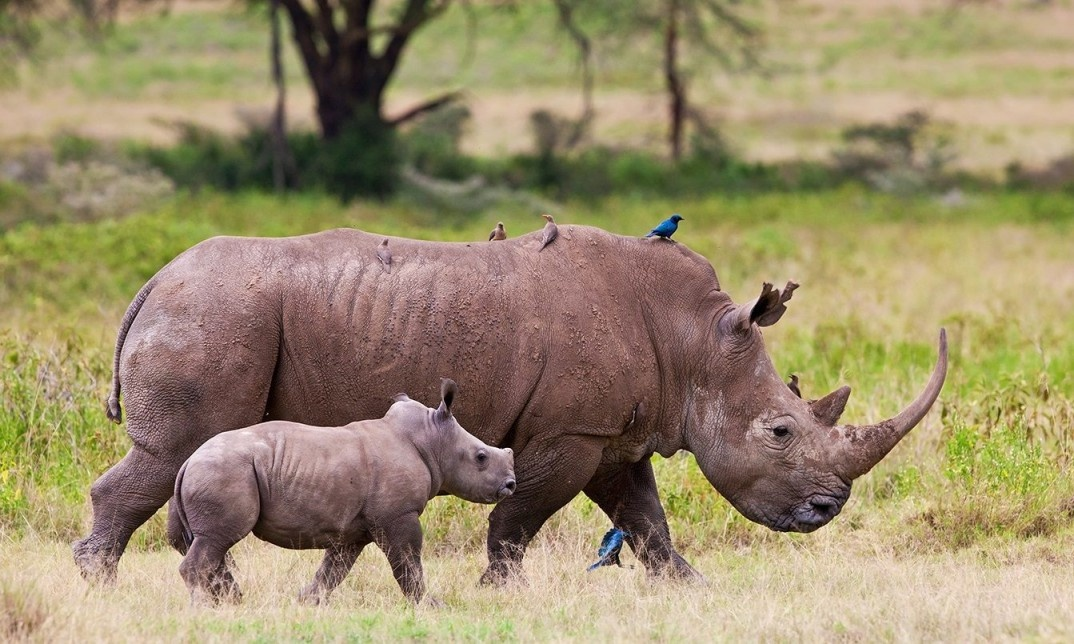rhino: (73, 220, 954, 592), (156, 376, 517, 604)
